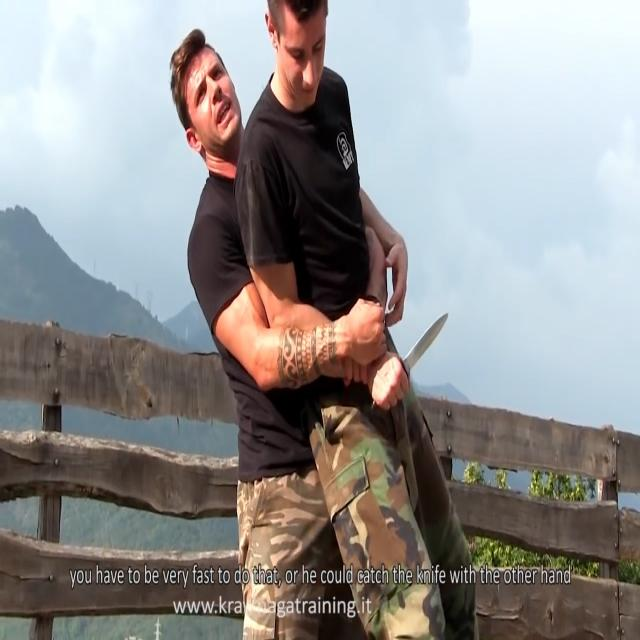knife: (402, 305, 452, 373)
